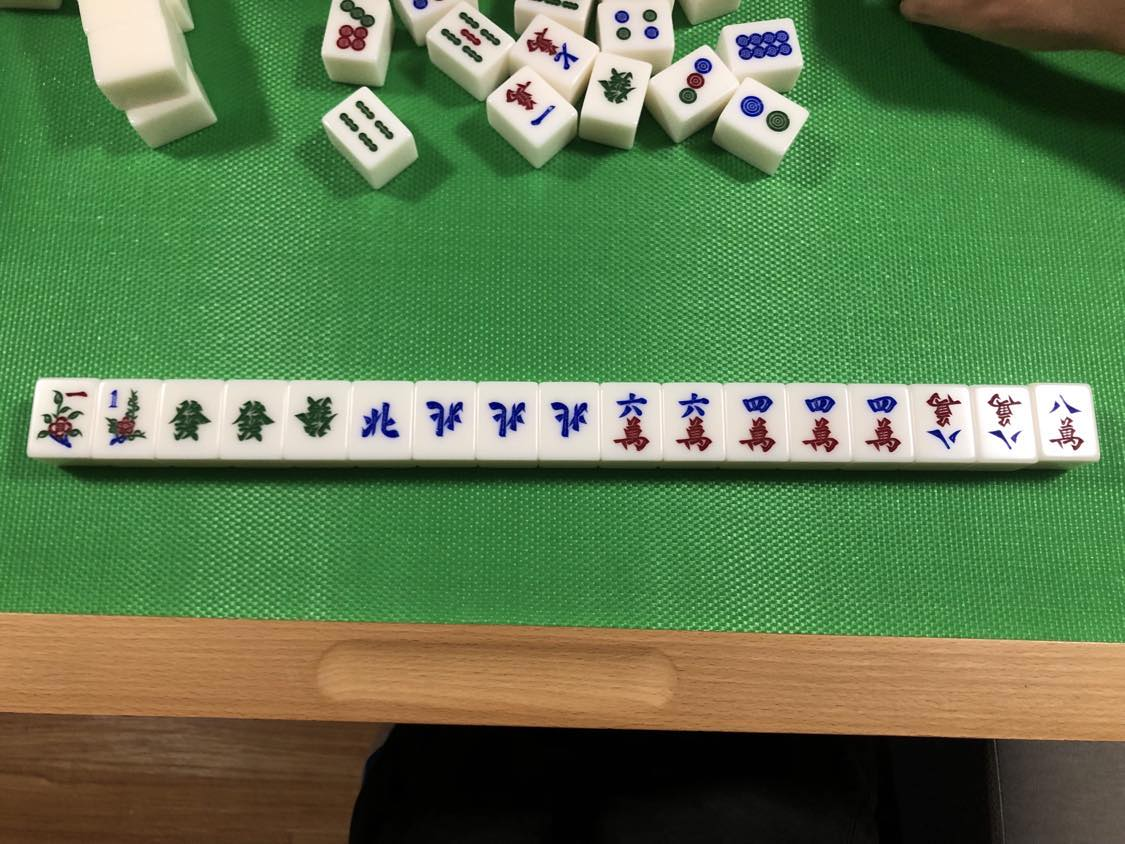character-eight: (981, 388, 1033, 458), (1041, 388, 1090, 455), (920, 388, 969, 454)
character-four: (792, 388, 847, 456), (858, 389, 906, 457), (730, 390, 780, 454)
character-six: (667, 389, 717, 456), (608, 390, 656, 454)
flower-blue_one: (99, 381, 152, 454)
flower-red_one: (34, 381, 92, 453)
honor-green_dragon: (163, 385, 217, 452), (227, 385, 279, 454), (290, 386, 341, 455)
honor-north_wind: (420, 386, 472, 456), (482, 386, 532, 455), (356, 386, 407, 453), (545, 389, 593, 451)
